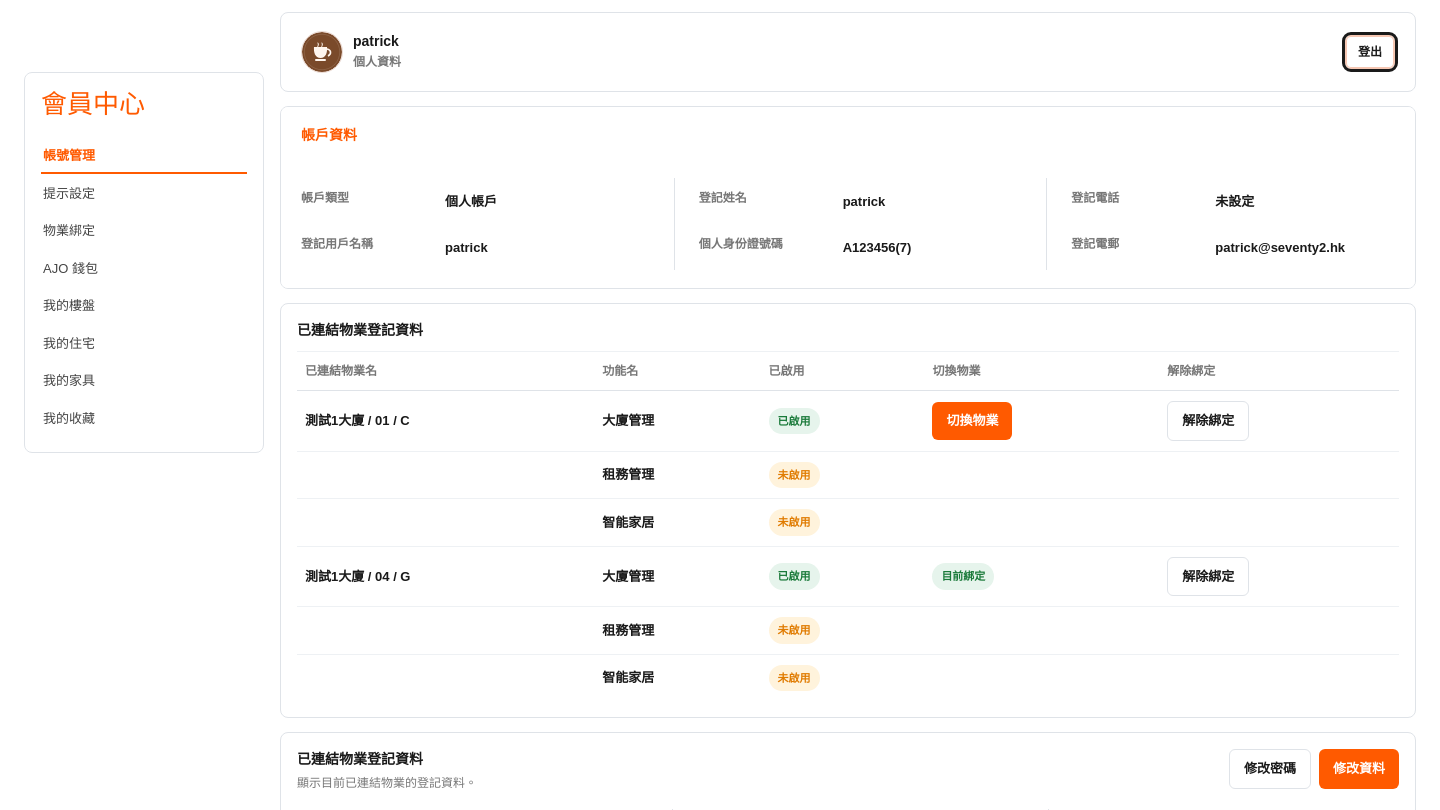
Test: AccountMyPage lazy data loading › reopens the owner-binding submit action after an iSmart request is rejected
Click the button with class "work-nav-item" showing "物業綁定".
click(144, 231)  # box [41,213,247,249]
(page scrolled)
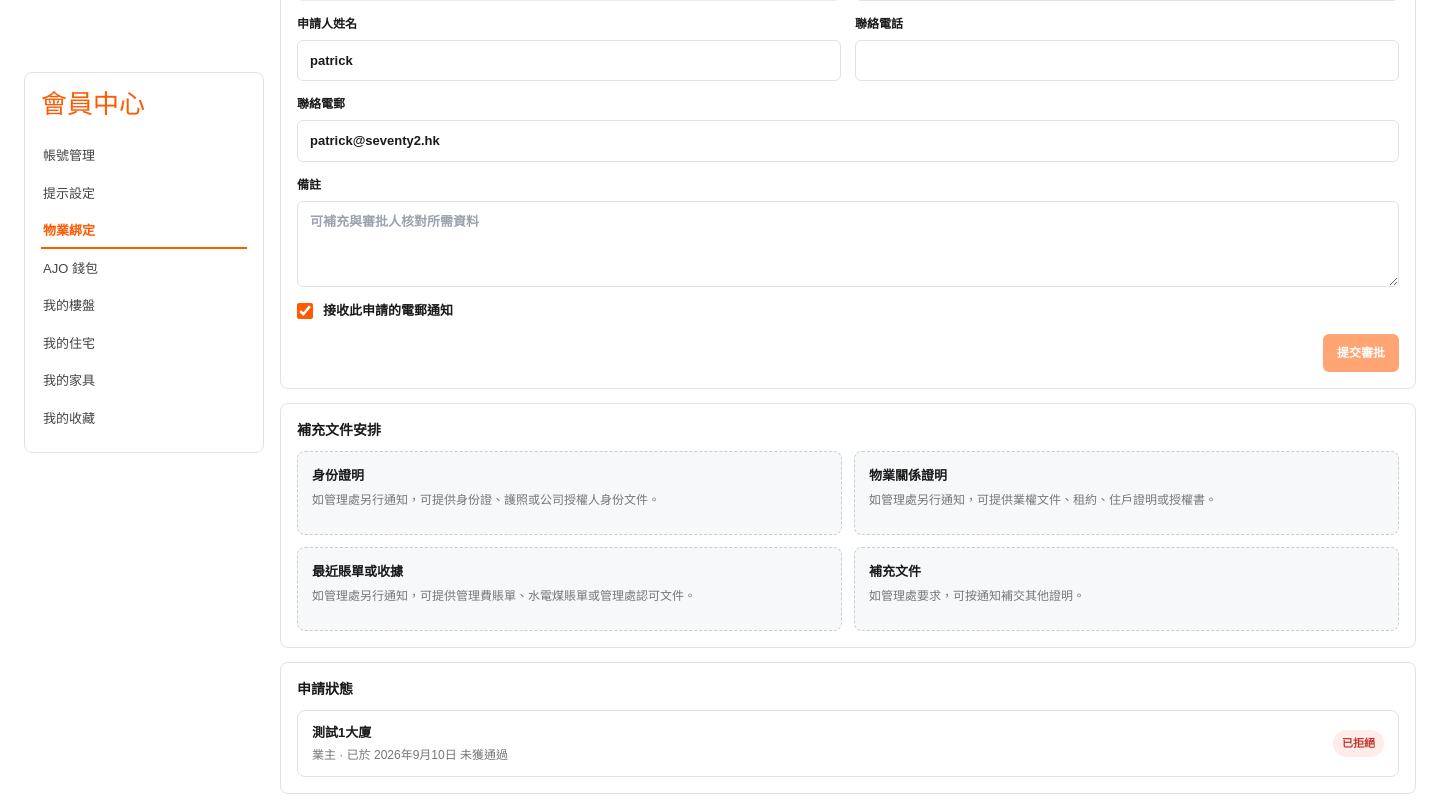
Check: the text with class "binding-status-title" reads "測試1大廈", box [312,725,371,740]
Check: the button "提交審批" is shown, box [1323,334,1399,372]
Check: the element with class "binding-status-item" shows "已拒絕", box [1342,737,1375,749]
